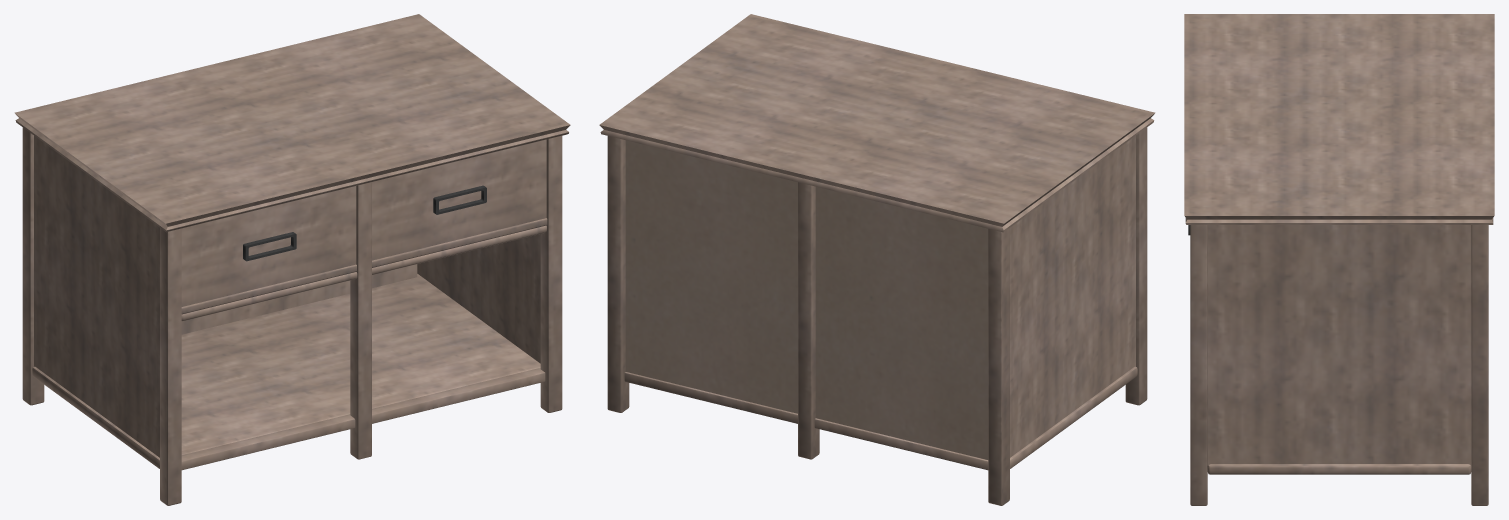
The model's file is simple_drawer.glb.
The picture shows the model from 3 angles, left to right: view 1: azimuth 30°, elevation 25°; view 2: azimuth 150°, elevation 25°; view 3: azimuth 270°, elevation 25°; orthographic projection. The views are drawn at different scales.
Visible parts, largest first — view 1: Object_2; view 2: Object_2; view 3: Object_2.
Part boxes in pixels (x1,y1,x2,y2): Object_2: (14, 14, 570, 505); Object_2: (599, 14, 1155, 505); Object_2: (1184, 14, 1494, 505).
Size of the model in its own units: 8.51 by 5.76 by 5.52.
Materials: 1 (1 with a texture image).
